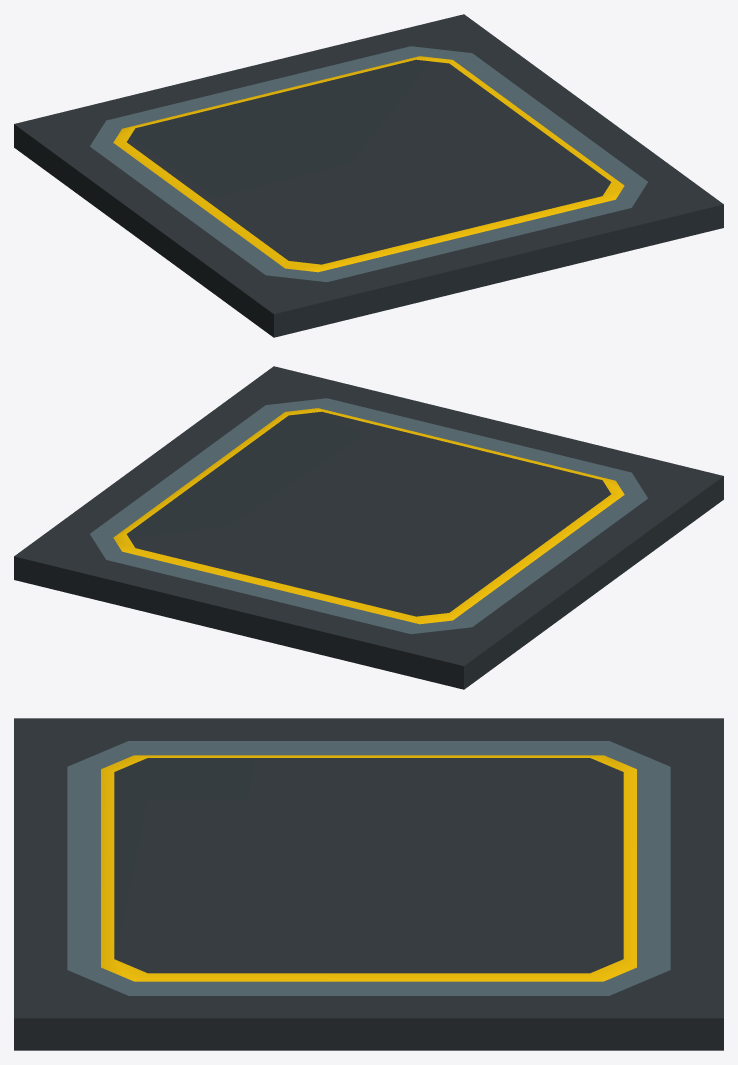
File: Platform_010.fbx
3 renders of one model, top to bottom at view 1: azimuth 30°, elevation 25°; view 2: azimuth 150°, elevation 25°; view 3: azimuth 270°, elevation 25°, orthographic. The views are drawn at different scales.
Parts seen in each view (by area): view 1: Platform_010; view 2: Platform_010; view 3: Platform_010.
Part boxes in pixels (left/top/right/bottom): Platform_010: left=14, top=14, right=723, bottom=337; Platform_010: left=14, top=366, right=723, bottom=689; Platform_010: left=14, top=718, right=723, bottom=1050.
Size of the model in its own units: 400 by 400 by 23.45.
